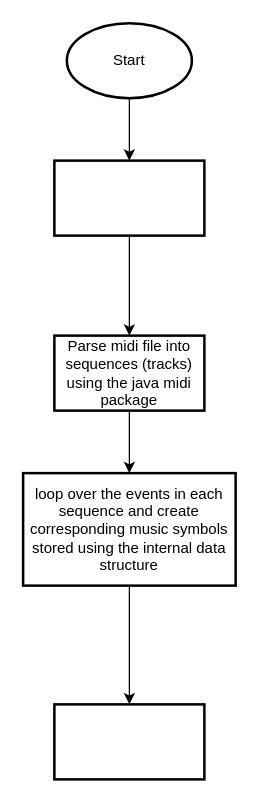
Image size: 258x801. Some labels were removed from this diagram. The shapes that lost their labels are listed below. From the top down, each one's centre as x and y in pixels, then its label:
point (128, 197): Reference to midi file is passed to and stored this class
point (128, 741): return a reference to the stored data when
